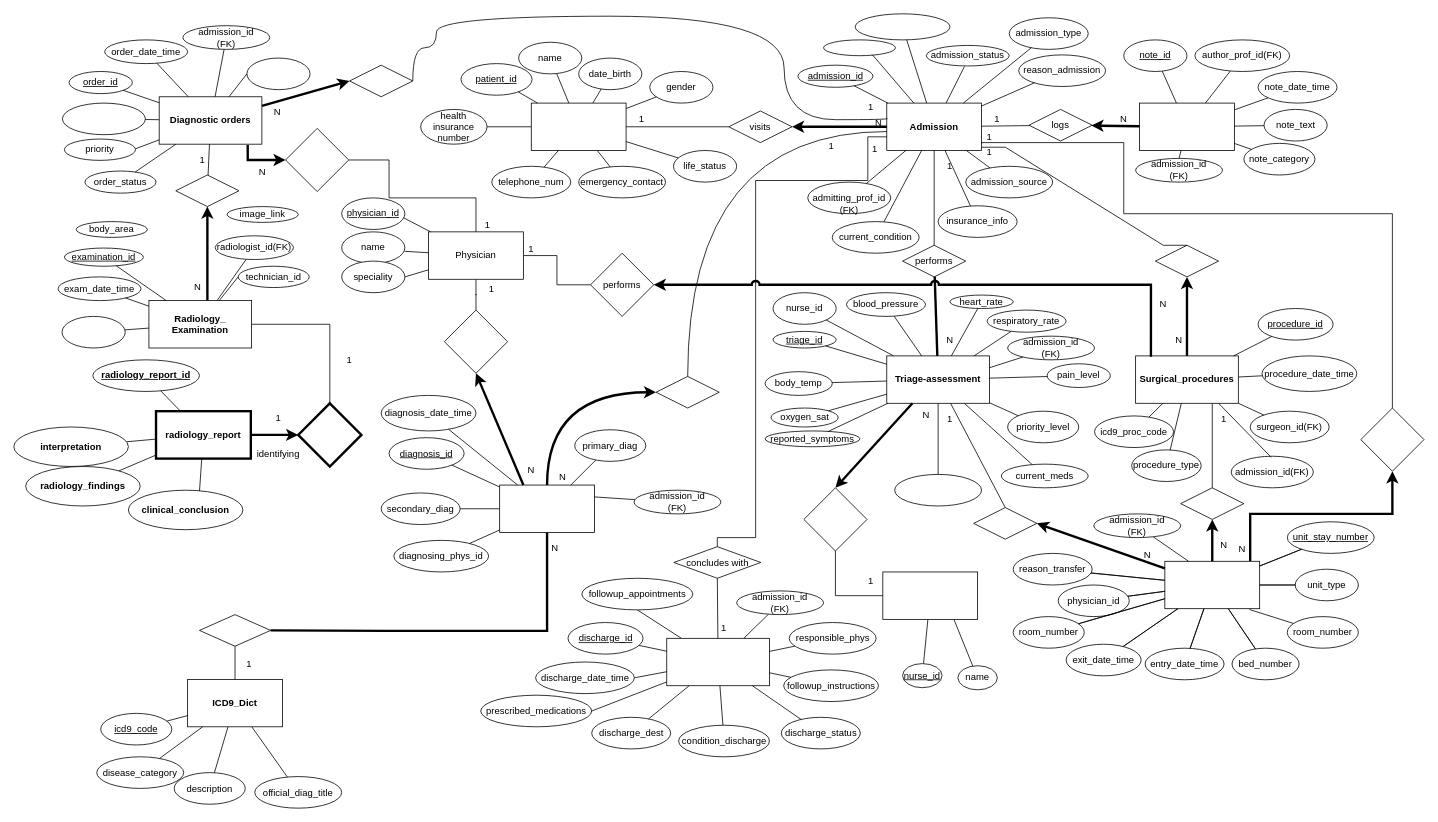
The diagram is 1438 pixels wide and 822 high, and some of its shapes have lost their labels. Here are the shapes that lost their labels. From the top down, the centre of each, then its label:
At (902,26): "admission_date_time".
At (859,47): "patient_id(FK)".
At (278,73): "order_type".
At (381,80): "requests".
At (103,118): "ordering_phys_id (FK)".
At (578,126): "Patient".
At (1186,126): "Clinical_Notes".
At (317,160): "places".
At (207,190): "fulfills".
At (1187,261): "undergoes".
At (93,332): "order-id(FK)".
At (476,341): "records".
At (687,392): "receives".
At (329,434): "produces".
At (1392,439): "includes".
At (546,508): "Diagnosis".
At (938,490): "known_allergies".
At (1212,503): "tracks".
At (835,519): "conducts".
At (1005,523): "triggers".
At (930,595): "Nurse".
At (1212,585): "ICU_Stay".
At (235,630): "represents".
At (717,662): "Discharge_Records".
